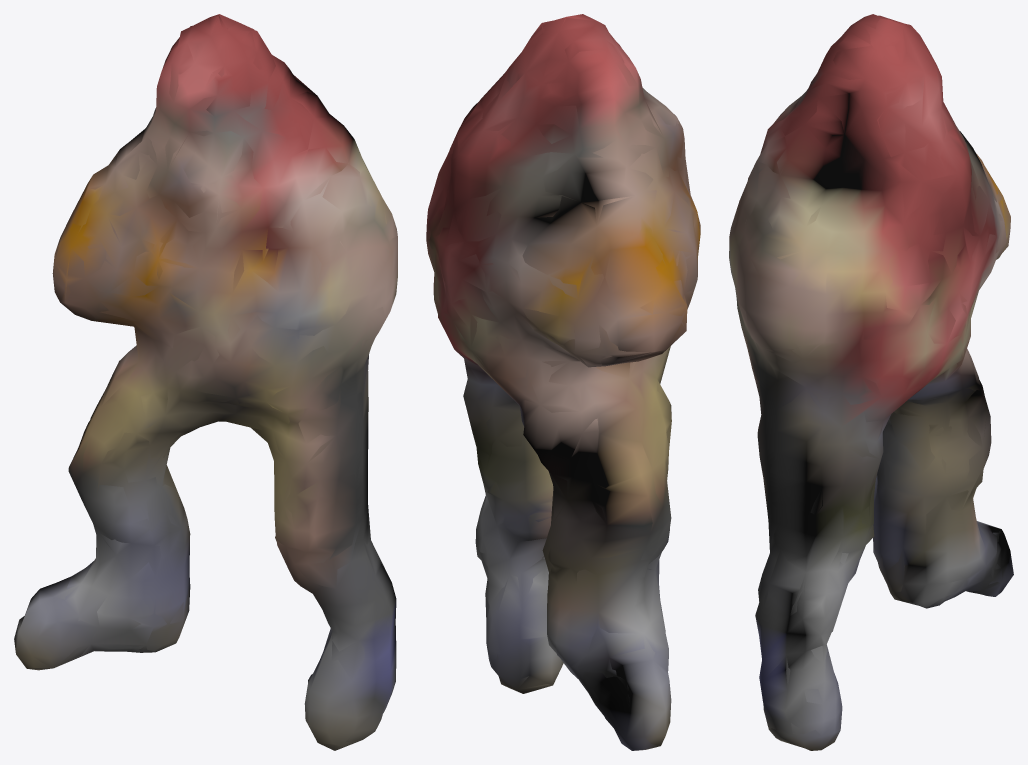
Rendered from crazy_ivan.glb.
The picture shows the model from 3 angles, left to right: view 1: azimuth 30°, elevation 25°; view 2: azimuth 150°, elevation 25°; view 3: azimuth 270°, elevation 25°; orthographic projection. The views are drawn at different scales.
Parts seen in each view (by area): view 1: crazy_ivan; view 2: crazy_ivan; view 3: crazy_ivan.
Boxes of the visible parts, box(x1,y1,x2,y2) form: crazy_ivan: box(14, 14, 397, 750); crazy_ivan: box(426, 14, 700, 750); crazy_ivan: box(729, 14, 1013, 750).
Bounding box in the file's own units: 0.9339 × 2.22 × 0.826.
